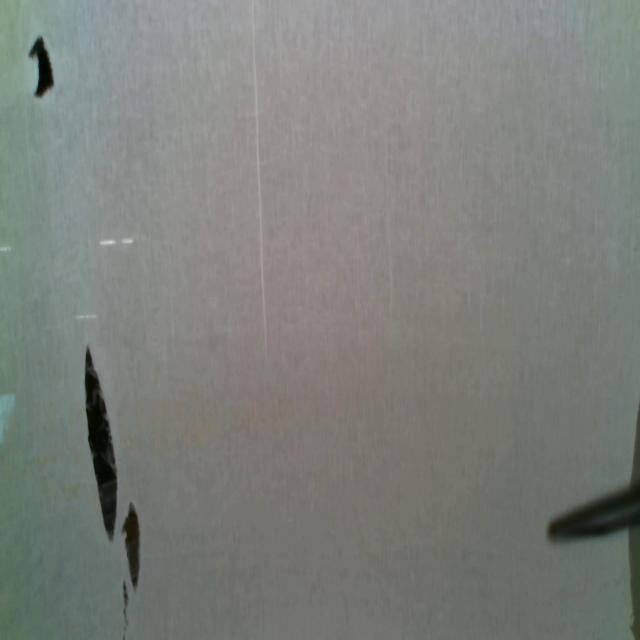crease: (250, 0, 269, 361)
hole: (84, 345, 119, 543), (122, 501, 140, 593), (30, 33, 54, 101), (122, 580, 128, 639)
